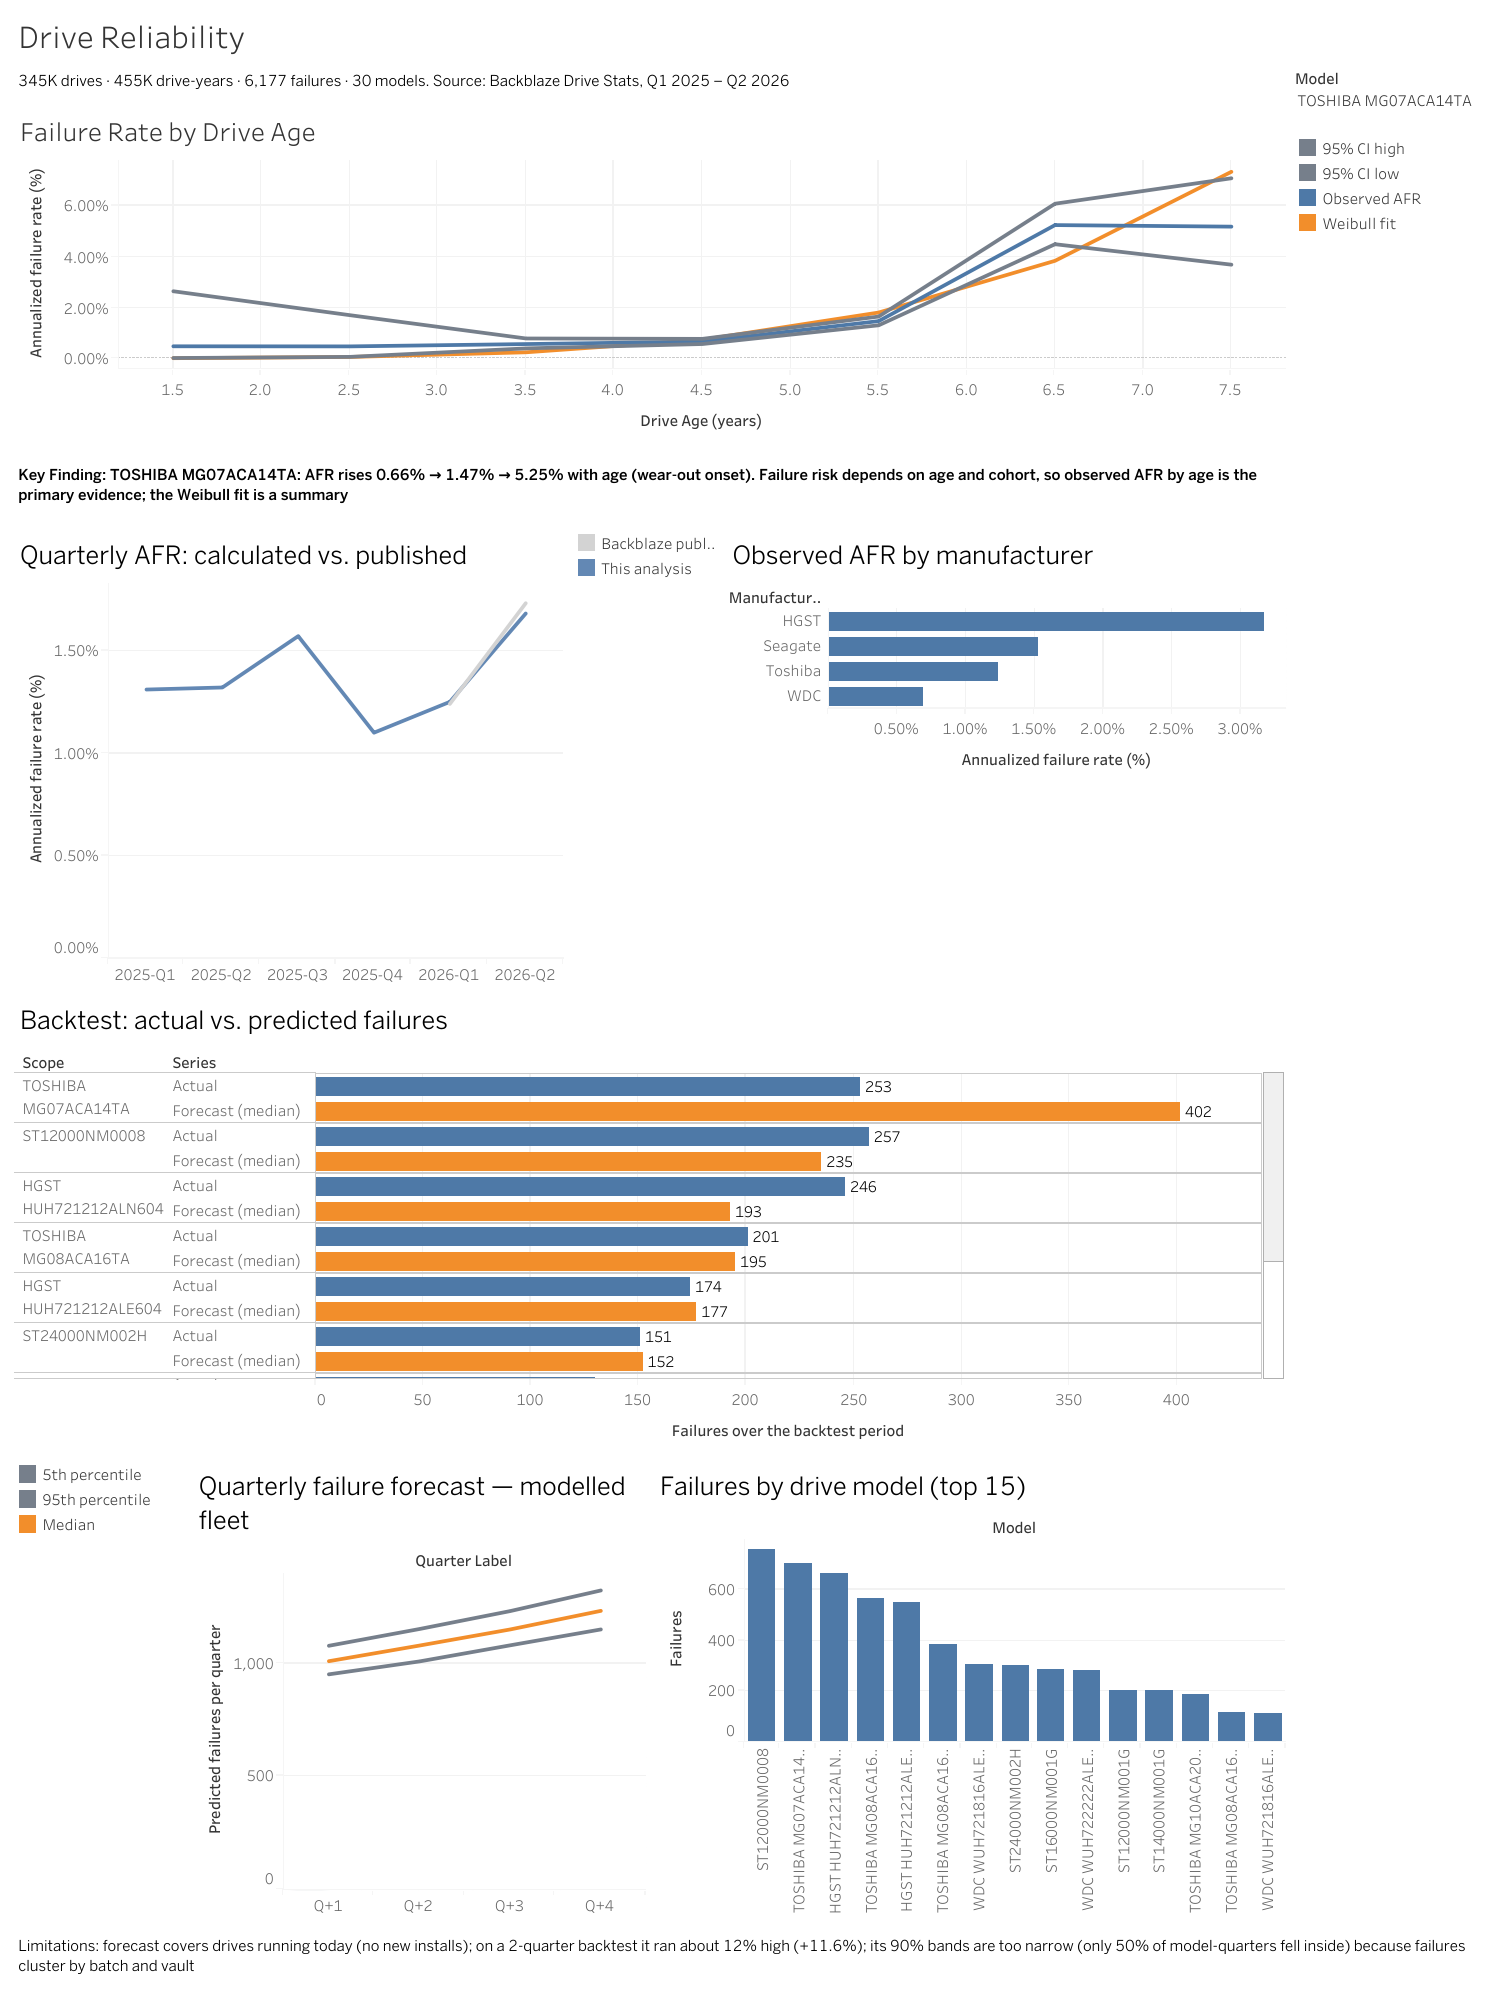

The page's visual inventory and layout, read from the dashboard file:
{"tool":"tableau","page":{"name":"Drive Reliability","canvas":[1200,1600],"ordinal":0},"visuals":[{"type":"title","box":[8,8,1184,40]},{"type":"text","box":[8,48,1024,32.9]},{"type":"filter","title":"AFR by Age","param":"[federated.1dd57b5065ob461b0godr103q0od].[none:model:nk]","box":[1032,48,160,61]},{"type":"worksheet","title":"AFR by Age","mark":"Line","rows":["afr_value_pct"],"cols":["age_mid_years"],"box":[8,80.9,1024,274.7]},{"type":"legend","title":"AFR by Age","param":"[federated.1dd57b5065ob461b0godr103q0od].[none:series:nk]","box":[1032,109,160,779]},{"type":"text","box":[8,355.6,1024,64.5]},{"type":"worksheet","title":"Quarterly AFR","mark":"Line","rows":["afr_pct"],"cols":["quarter_sort"],"box":[8,420.2,447,372.3]},{"type":"legend","title":"Quarterly AFR","param":"[federated.0ch0wws0mzpj721ak60l51cdygv1].[none:series:nk]","box":[455,420.2,123,372.3]},{"type":"worksheet","title":"AFR by manufacturer","mark":"Bar","rows":["manufacturer"],"cols":["afr_pct"],"box":[578,420.2,454,372.3]},{"type":"worksheet","title":"Backtest by model","mark":"Bar","rows":["scope","series"],"cols":["failures"],"box":[8,792.4,1024,372.3]},{"type":"legend","title":"Forecast","param":"[federated.0zmj3kx1jggve615r61sd0732u28].[none:series:nk]","box":[8,1164.7,143,372.3]},{"type":"worksheet","title":"Forecast","mark":"Line","rows":["failures"],"cols":["quarter_label"],"box":[151,1164.7,369,372.3]},{"type":"worksheet","title":"Failure Pareto","mark":"Bar","rows":["failures"],"cols":["model"],"box":[520,1164.7,512,372.3]},{"type":"text","box":[8,1537,1184,55]}]}

Visuals, with their boxes in screenshot pixels (x1, y1, x2, y2), scaled from the page's 1200x1600 canvas onto the 1499x1999 screenshot:
title: (10,10,1489,60)
text: (10,60,1289,101)
"AFR by Age" filter: (1289,60,1489,136)
"AFR by Age" worksheet (Line marks): (10,101,1289,444)
"AFR by Age" legend: (1289,136,1489,1109)
text: (10,444,1289,525)
"Quarterly AFR" worksheet (Line marks): (10,525,568,990)
"Quarterly AFR" legend: (568,525,722,990)
"AFR by manufacturer" worksheet (Bar marks): (722,525,1289,990)
"Backtest by model" worksheet (Bar marks): (10,990,1289,1455)
"Forecast" legend: (10,1455,189,1920)
"Forecast" worksheet (Line marks): (189,1455,650,1920)
"Failure Pareto" worksheet (Bar marks): (650,1455,1289,1920)
text: (10,1920,1489,1989)
